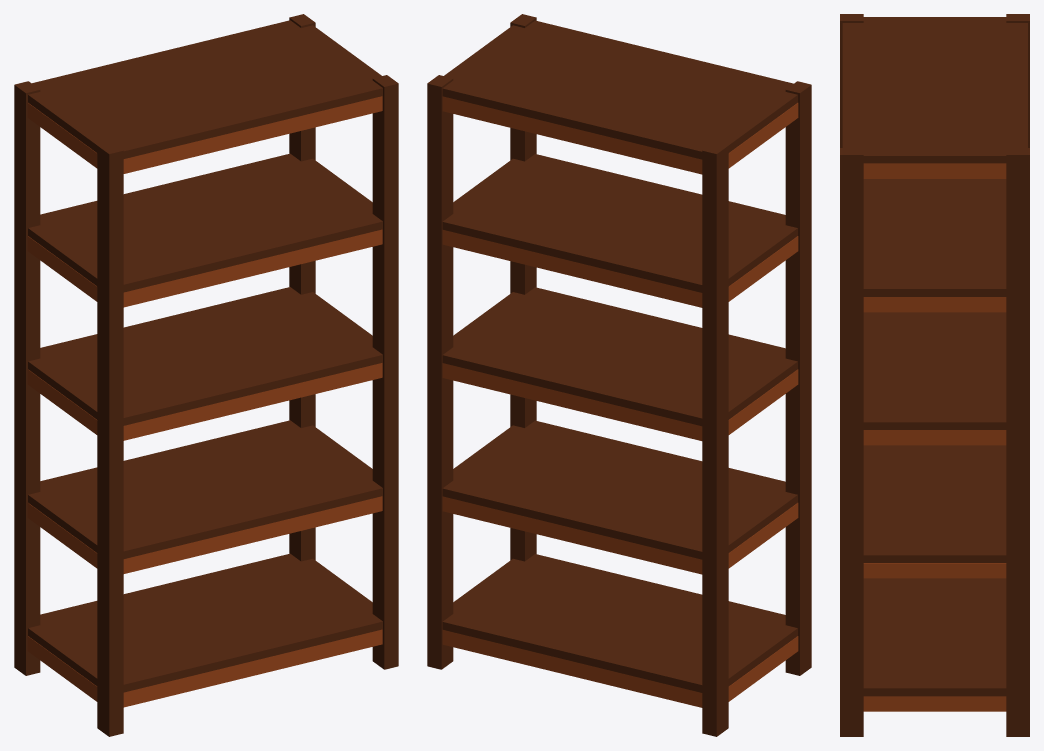
File: shelvtest.fbx
3 renders of one model, left to right at view 1: azimuth 30°, elevation 25°; view 2: azimuth 150°, elevation 25°; view 3: azimuth 270°, elevation 25°, orthographic.
Visible parts, largest first — view 1: Shelf; view 2: Shelf; view 3: Shelf.
Part boxes in pixels (x1,y1,x2,y2): Shelf: (14,14,398,736); Shelf: (427,14,811,736); Shelf: (840,14,1029,736).
Size of the model in its own units: 141 by 271 by 80.05.
